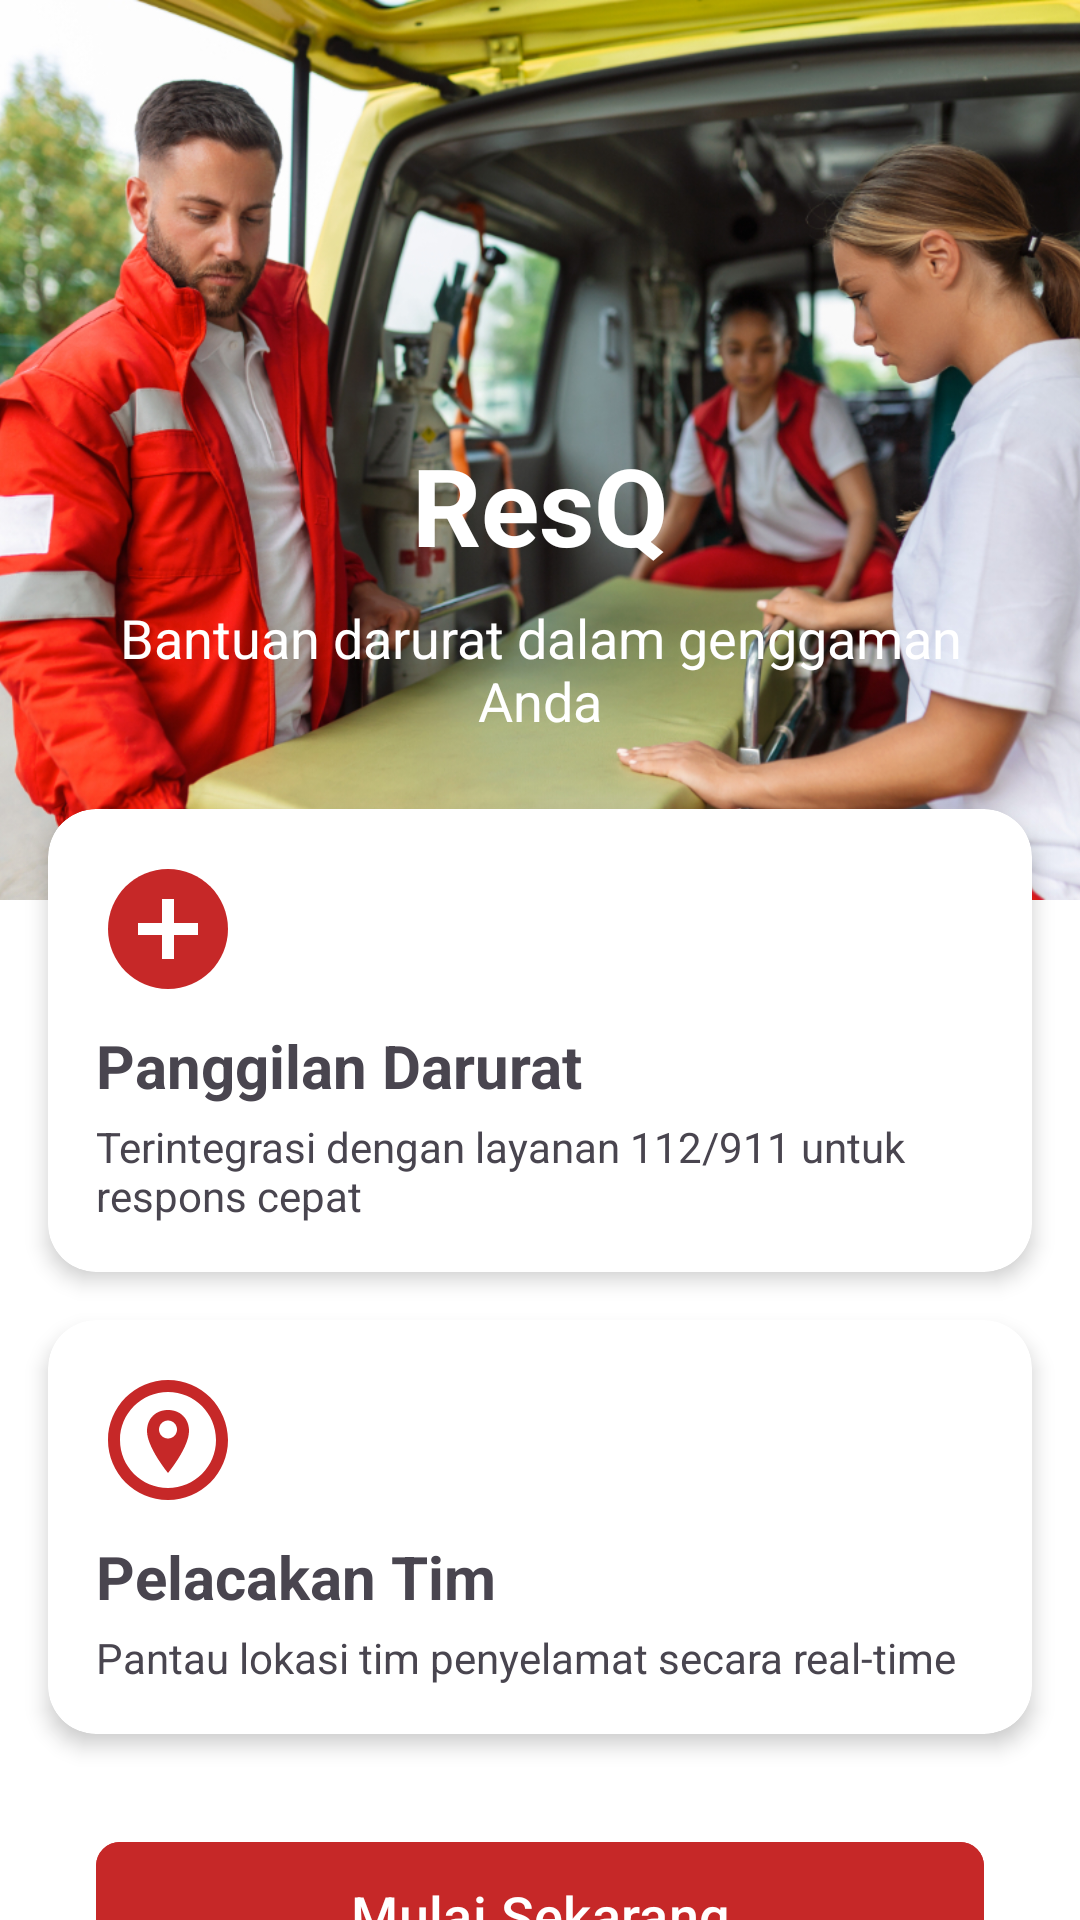

Where to tap for icons on this 1080px x 1920px app screen, as point (x, y):
emergency: point (168, 929)
tracking: point (168, 1440)
